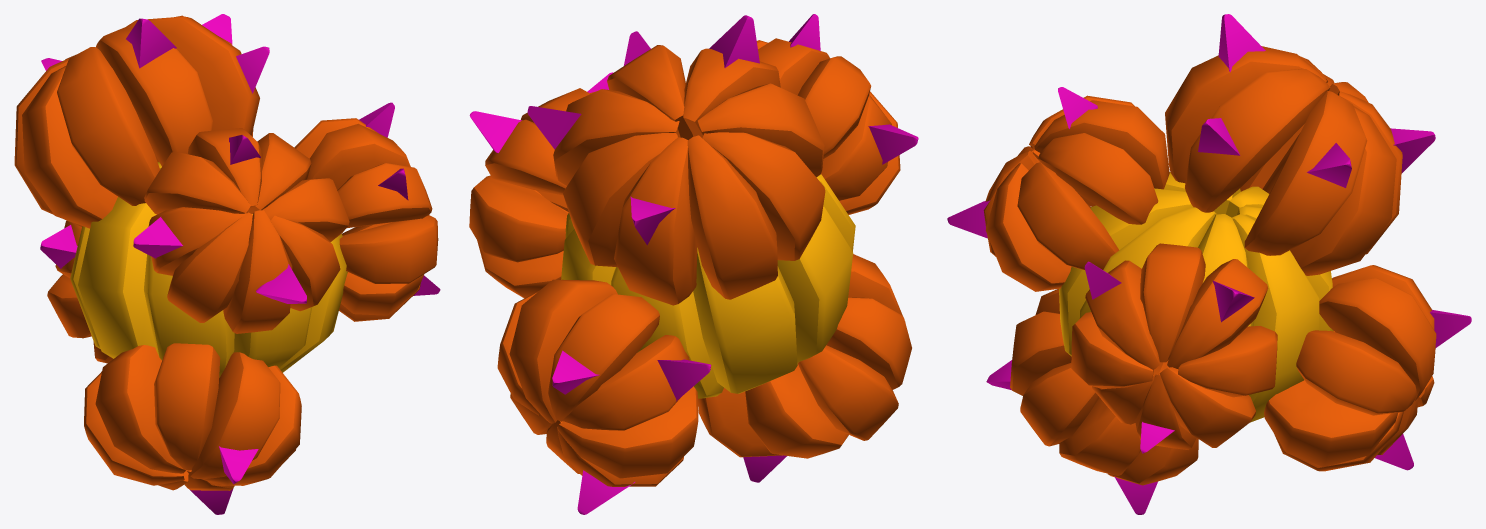
Rendered from p_mesh_hvs_lemonium.fbx.
3 views of the same model, side by side, from view 1: azimuth 30°, elevation 25°; view 2: azimuth 150°, elevation 25°; view 3: azimuth 270°, elevation 25° (orthographic). The views are drawn at different scales.
Parts seen in each view (by area): view 1: p_harvests_lemonium; view 2: p_harvests_lemonium; view 3: p_harvests_lemonium.
Part boxes in pixels (x1,y1,x2,y2): p_harvests_lemonium: (14,14,440,514); p_harvests_lemonium: (469,14,918,514); p_harvests_lemonium: (947,14,1471,514).
Bounding box in the file's own units: 10.15 × 13.04 × 12.83.
